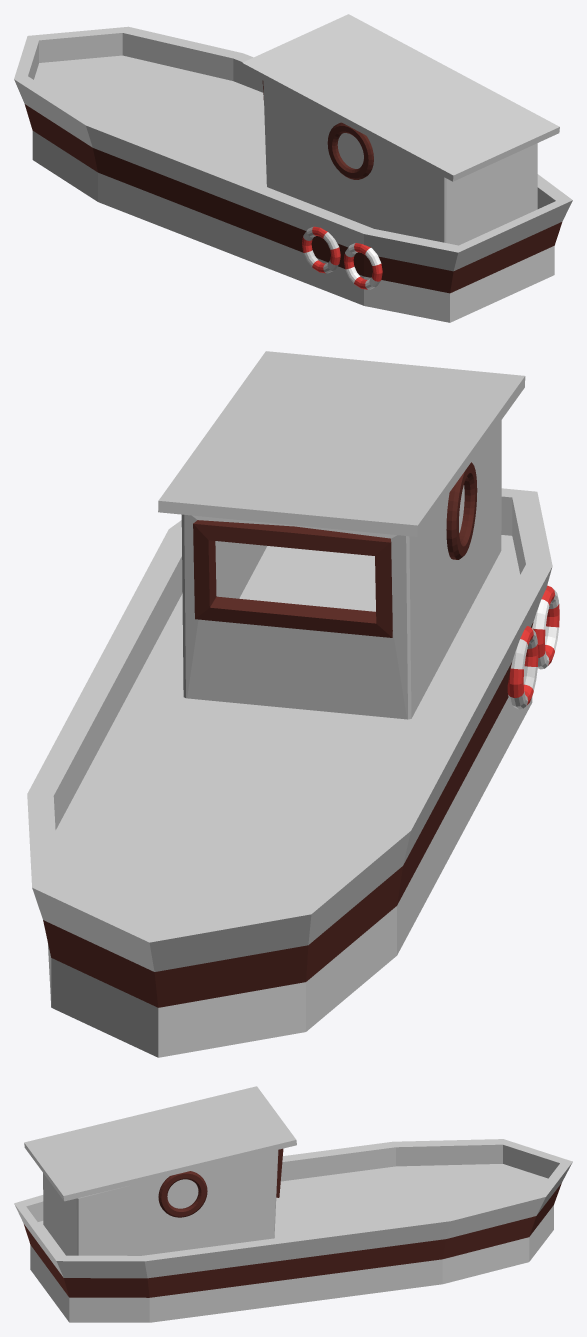
Rendered from boot.fbx.
3 views of the same model, one above another, from view 1: azimuth 30°, elevation 25°; view 2: azimuth 150°, elevation 25°; view 3: azimuth 270°, elevation 25° (orthographic). The views are drawn at different scales.
Visible parts, largest first — view 1: base, techo_cabina, cabina, ventana2, salvavidas2, salvavidas1; view 2: base, cabina, techo_cabina, ventana2, salvavidas1, salvavidas2; view 3: base, techo_cabina, cabina, ventana1.
Part boxes in pixels (<box>): base: <box>14,26,572,322</box>; techo_cabina: <box>241,14,559,181</box>; cabina: <box>262,80,537,245</box>; ventana2: <box>327,122,373,179</box>; salvavidas2: <box>344,243,382,289</box>; salvavidas1: <box>302,226,340,273</box>; base: <box>27,488,552,1057</box>; cabina: <box>181,420,501,719</box>; techo_cabina: <box>158,351,525,536</box>; ventana2: <box>446,462,477,559</box>; salvavidas1: <box>507,626,538,709</box>; salvavidas2: <box>532,585,559,669</box>; base: <box>14,1139,572,1322</box>; techo_cabina: <box>24,1086,296,1201</box>; cabina: <box>43,1148,283,1255</box>; ventana1: <box>158,1171,207,1217</box>.
Bounding box in the file's own units: 900 × 524 × 1737.
